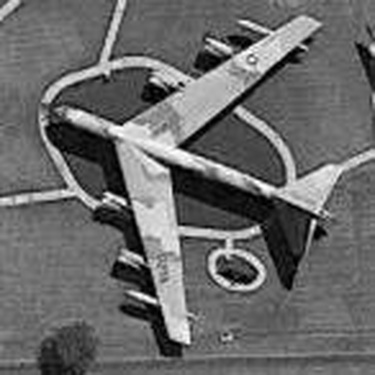airplane: (26, 7, 350, 346)
